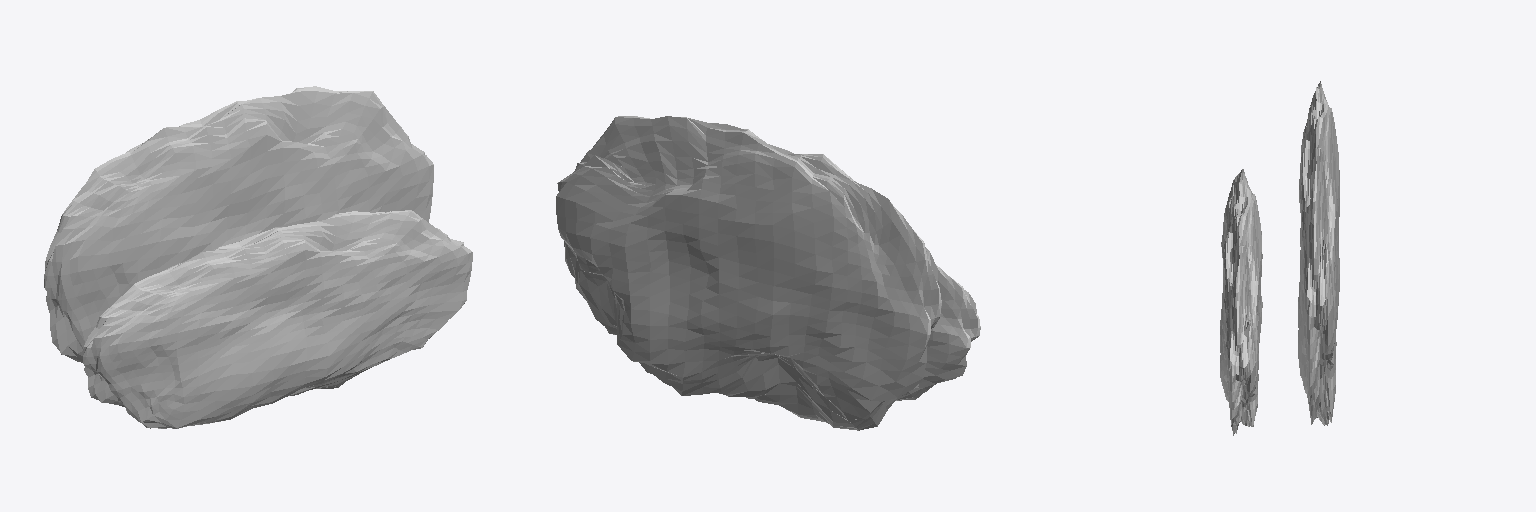
The model's file is tension_rock.obj.
The picture shows the model from 3 angles: view 1: azimuth 30°, elevation 25°; view 2: azimuth 150°, elevation 25°; view 3: azimuth 270°, elevation 25°; orthographic projection.
Visible parts, largest first — view 1: Cube.001, Cube; view 2: Cube, Cube.001; view 3: Cube, Cube.001.
Boxes of the visible parts, <box> form: Cube.001: <box>83,210,472,428</box>; Cube: <box>44,86,433,362</box>; Cube: <box>556,116,941,430</box>; Cube.001: <box>896,265,980,400</box>; Cube: <box>1298,81,1339,425</box>; Cube.001: <box>1220,169,1262,435</box>.
Bounding box in the file's own units: 3.78 × 2.61 × 1.03.